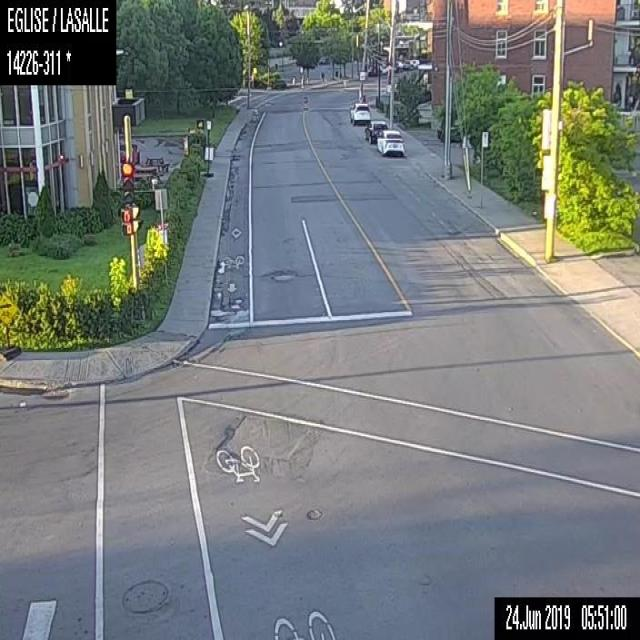pedestrian: (320, 70, 324, 82)
vehicle: (375, 128, 406, 156), (363, 118, 388, 144), (349, 102, 371, 125), (118, 142, 139, 164)
